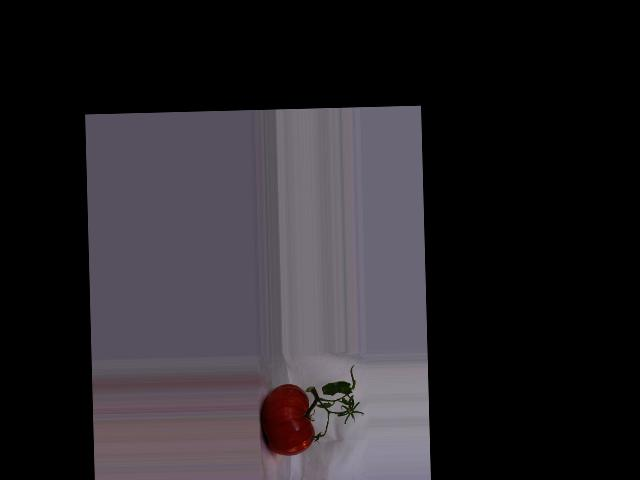tomato: (259, 383, 314, 456)
